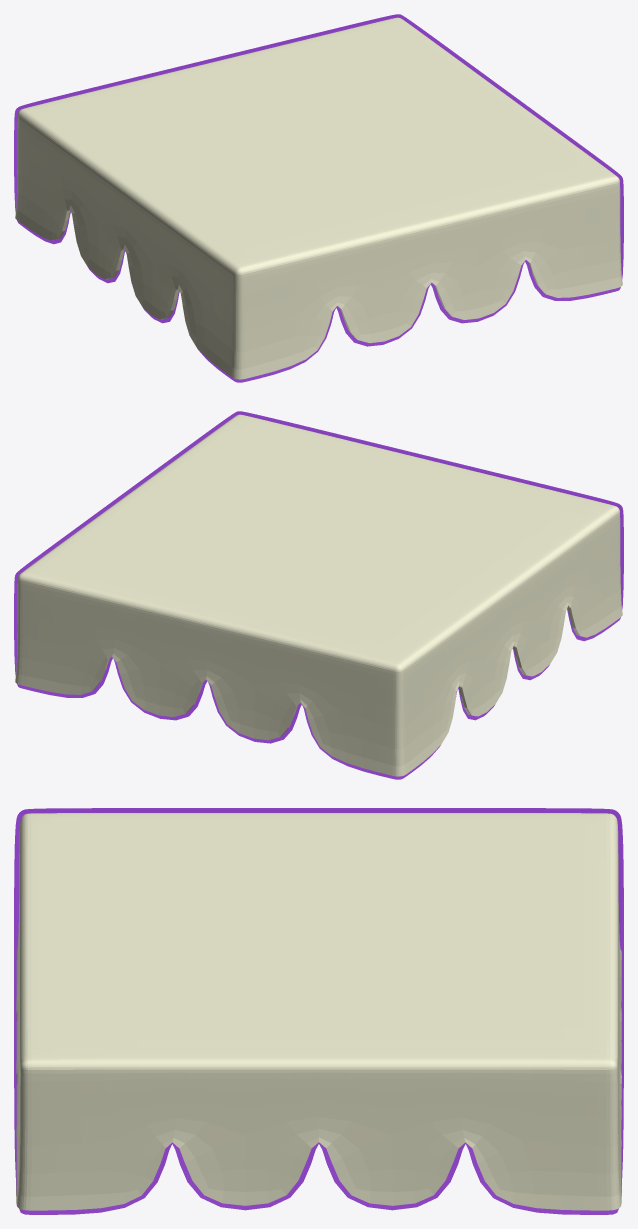
File: quadrado branco.glb
3 renders of one model, top to bottom at view 1: azimuth 30°, elevation 25°; view 2: azimuth 150°, elevation 25°; view 3: azimuth 270°, elevation 25°, orthographic. The views are drawn at different scales.
Parts seen in each view (by area): view 1: Cube.014; view 2: Cube.014; view 3: Cube.014.
Part boxes in pixels (left/top/right/bottom): Cube.014: left=14, top=14, right=623, bottom=382; Cube.014: left=14, top=411, right=623, bottom=779; Cube.014: left=14, top=808, right=623, bottom=1214.
Bounding box in the file's own units: 22.35 × 6.37 × 22.35.
